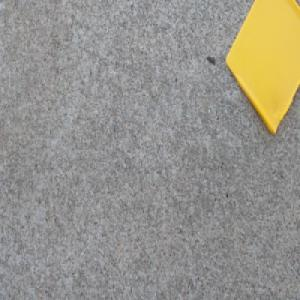PlasticPart: (224, 0, 300, 139)
